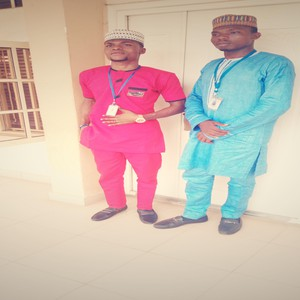Fulokoja_male_student: (188, 19, 276, 240), (81, 31, 167, 221)
